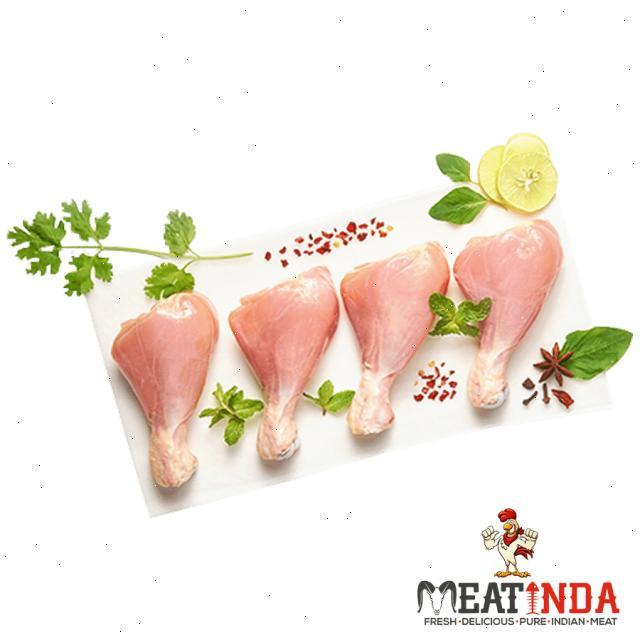leg: (96, 289, 220, 493), (340, 240, 443, 466), (457, 226, 562, 417), (244, 242, 320, 478)
